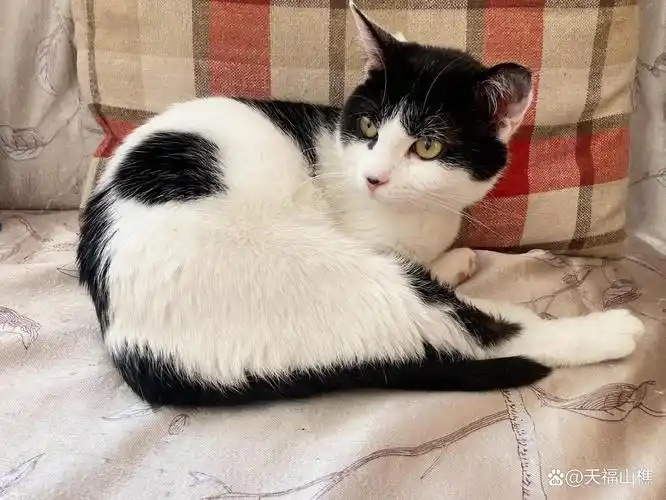奶牛猫: (78, 99, 424, 403), (193, 0, 540, 217)
